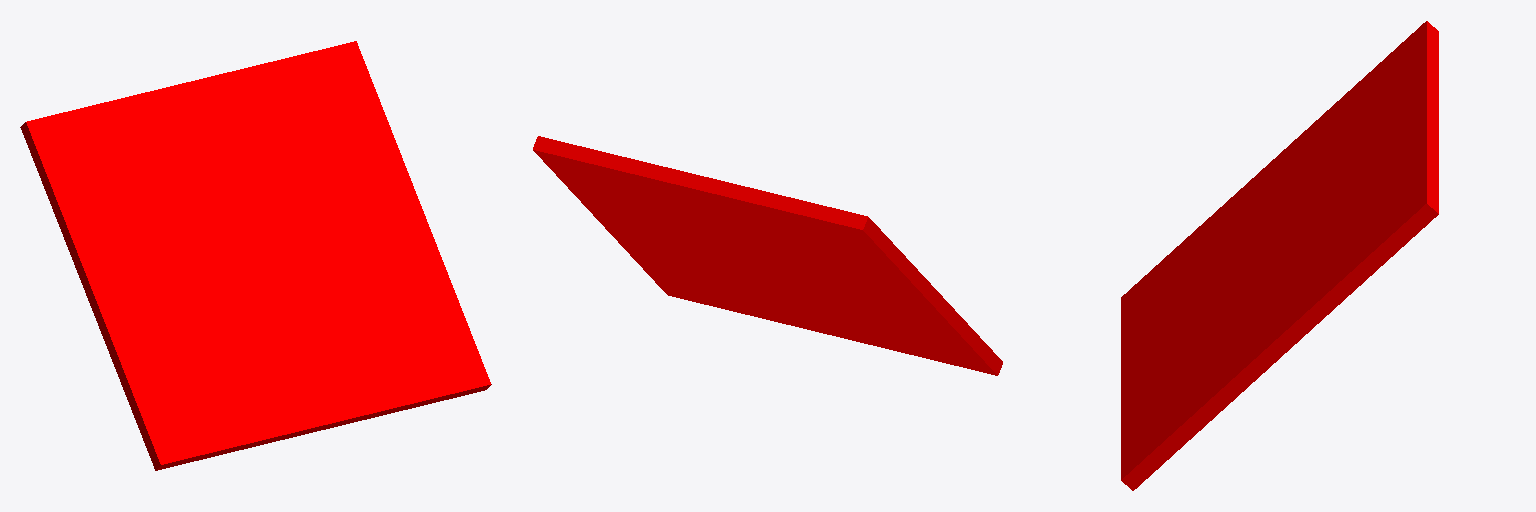
The robot description file, URDF, robot "panda_collision":
<?xml version='1.0' encoding='utf-8'?>
<robot name="panda_collision">

	<material name="red">
		<color rgba="153 0 0 1"/>
	</material>
	<material name="blue">
		<color rgba="0 102 102 1"/>
	</material>

    <link name="link0">
      <inertial>
        <origin xyz="0 0 0.05" rpy="0 0 0" />
        <mass value="4" />
        <inertia ixx="0.4" iyy="0.4" izz="0.4" ixy="0" ixz="0" iyz="0" />
      </inertial>
      <visual>
        <geometry>
          <mesh filename="../../../model/panda/meshes/visual/link0.obj"/>
        </geometry>
      </visual>
      <collision>
        <!--<geometry>
          <mesh filename="../../../model/panda/meshes/collision/link0.obj"/>
        </geometry> -->
      </collision>
    </link>
    <link name="link1">
      <inertial>
        <origin xyz="0 0 -0.07" rpy="0 -0 0" />
        <mass value="4" />
        <inertia ixx="0.3" iyy="0.3" izz="0.3" ixy="0" ixz="0" iyz="0" />
      </inertial>
      <visual>
        <geometry>
          <mesh filename="../../../model/panda/meshes/visual/link1.obj"/>
        </geometry>
      </visual>
      <collision>
        <!--<geometry>
          <mesh filename="../../../model/panda/meshes/collision/link1.obj"/>
        </geometry>-->
      </collision>
    </link>
    <link name="link2">
      <inertial>
        <origin xyz="0 -0.1 0" rpy="0 0 0" />
        <mass value="3" />
        <inertia ixx="0.3" iyy="0.3" izz="0.3" ixy="0" ixz="0" iyz="0" />
      </inertial>
      <visual>
        <geometry>
          <mesh filename="../../../model/panda/meshes/visual/link2.obj"/>
        </geometry>
      </visual>
      <collision>
        <!--<geometry>
          <mesh filename="../../../model/panda/meshes/collision/link2.obj"/>
        </geometry>-->
      </collision>
    </link>
    <link name="link3">
      <inertial>
        <origin xyz="0.04 0 -0.05" rpy="0 0 0" />
        <mass value="3" />
        <inertia ixx="0.2" iyy="0.2" izz="0.2" ixy="0" ixz="0" iyz="0" />
      </inertial>
      <visual>
        <geometry>
          <mesh filename="../../../model/panda/meshes/visual/link3.obj"/>
        </geometry>
      </visual>
      <collision>
        <!--<geometry>
          <mesh filename="../../../model/panda/meshes/collision/link3.obj"/>
        </geometry>-->
      </collision>
    </link>
    <link name="link4">
      <inertial>
        <origin xyz="-0.04 0.05 0" rpy="0 0 0" />
        <mass value="3" />
        <inertia ixx="0.2" iyy="0.2" izz="0.2" ixy="0" ixz="0" iyz="0" />
      </inertial>
      <visual>
        <geometry>
          <mesh filename="../../../model/panda/meshes/visual/link4.obj"/>
        </geometry>
      </visual>
      <collision>
        <geometry>
          <mesh filename="../../../model/panda/meshes/collision/link4.obj"/>
        </geometry>
      </collision>
    </link>
    <link name="link5">
      <inertial>
        <origin xyz="0 0 -0.15" rpy="0 0 0" />
        <mass value="3" />
        <inertia ixx="0.2" iyy="0.2" izz="0.2" ixy="0" ixz="0" iyz="0" />
      </inertial>
      <visual>
        <geometry>
          <mesh filename="../../../model/panda/meshes/visual/link5.obj"/>
        </geometry>
      </visual>
      <collision>
        <!--<geometry>
          <mesh filename="../../../model/panda/meshes/collision/link5.obj"/>
        </geometry>-->
      </collision>
    </link>
    <link name="link6">
      <inertial>
        <origin xyz="0.06 0 0" rpy="0 0 0" />
        <mass value="2" />
        <inertia ixx="0.1" iyy="0.1" izz="0.1" ixy="0" ixz="0" iyz="0" />
      </inertial>
      <visual>
        <geometry>
          <mesh filename="../../../model/panda/meshes/visual/link6.obj"/>
        </geometry>
      </visual>
      <collision>
        <geometry>
          <mesh filename="../../../model/panda/meshes/collision/link6.obj"/>
        </geometry>
      </collision>
    </link>
    <link name="link7">
      <inertial>
        <origin xyz="0 0 0.17" rpy="0 0 0" />
        <mass value="0.5" />
        <inertia ixx="0.09" iyy="0.05" izz="0.07" ixy="0" ixz="0" iyz="0" />
      </inertial>
      <visual>
        <geometry>
          <mesh filename="../../../model/panda/meshes/visual/link7.obj"/>
        </geometry>
      </visual>
      <collision>
        <geometry>
          <mesh filename="../../../model/panda/meshes/collision/link7.obj"/>
        </geometry>
      </collision>
    </link>
    <link name="plate">
      <inertial>
        <origin xyz="0 0 0.0" rpy="0 -0 0" />
        <mass value="0.0001" />
        <inertia ixx="0.01" iyy="0.01" izz="0.005" ixy="0" ixz="0" iyz="0" />
      </inertial>
      <visual>
	<origin xyz ="0 .1 -.125" rpy="0 0 0" />
        <geometry>
          <box size="0.25 0.01 0.25"/>
        </geometry>
	<material name="red"/>
      </visual>
      <collision>
	<origin xyz ="0 .1 -.125" rpy="0 0 0" />
        <geometry>
          <box size="0.25 0.01 0.25"/>
        </geometry>
	<material name="red"/>
      </collision>
    </link>
    <joint name="joint1" type="revolute">
      <safety_controller k_position="100.0" k_velocity="40.0" soft_lower_limit="-2.8973" soft_upper_limit="2.8973"/>
      <origin rpy="0 0 1.5708" xyz="0 0 0.333"/>
      <parent link="link0"/>
      <child link="link1"/>
      <axis xyz="0 0 1"/>
      <calibration falling="-80.0" />
      <limit effort="87" lower="-2.8973" upper="2.8973" velocity="2.1750"/>
    </joint>
    <joint name="joint2" type="revolute">
      <safety_controller k_position="100.0" k_velocity="40.0" soft_lower_limit="-1.7628" soft_upper_limit="1.7628"/>
      <origin rpy="-1.57079632679 0 0" xyz="0 0 0"/>
      <parent link="link1"/>
      <child link="link2"/>
      <axis xyz="0 0 1"/>
      <calibration falling="-45.0" />
      <limit effort="87" lower="-1.7628" upper="1.7628" velocity="2.1750"/>
    </joint>
    <joint name="joint3" type="revolute">
      <safety_controller k_position="100.0" k_velocity="40.0" soft_lower_limit="-2.8973" soft_upper_limit="2.8973"/>
      <origin rpy="1.57079632679 0 0" xyz="0 -0.316 0"/>
      <parent link="link2"/>
      <child link="link3"/>
      <axis xyz="0 0 1"/>
      <limit effort="87" lower="-2.8973" upper="2.8973" velocity="2.1750"/>
    </joint>
    <joint name="joint4" type="revolute">
      <safety_controller k_position="100.0" k_velocity="40.0" soft_lower_limit="-3.0718" soft_upper_limit="-0.0698"/>
      <origin rpy="1.57079632679 0 0" xyz="0.0825 0 0"/>
      <parent link="link3"/>
      <child link="link4"/>
      <axis xyz="0 0 1"/>
      <calibration falling="-125.0" />
      <limit effort="87" lower="-3.0718" upper="-0.0698" velocity="2.1750"/>
    </joint>
    <joint name="joint5" type="revolute">
      <safety_controller k_position="100.0" k_velocity="40.0" soft_lower_limit="-2.8973" soft_upper_limit="2.8973"/>
      <origin rpy="-1.57079632679 0 0" xyz="-0.0825 0.384 0"/>
      <parent link="link4"/>
      <child link="link5"/>
      <axis xyz="0 0 1"/>
      <limit effort="12" lower="-2.8973" upper="2.8973" velocity="2.6100"/>
    </joint>
    <joint name="joint6" type="revolute">
      <safety_controller k_position="100.0" k_velocity="40.0" soft_lower_limit="-0.0175" soft_upper_limit="3.7525"/>
      <origin rpy="0 0 0" xyz="0 0 0"/>
      <parent link="link5"/>
      <child link="link6"/>
      <axis xyz="0 0 1"/>
      <calibration falling="80.0" />
      <limit effort="12" lower="-0.0175" upper="3.7525" velocity="2.6100"/>
    </joint>
    <joint name="joint7" type="revolute">
      <safety_controller k_position="100.0" k_velocity="40.0" soft_lower_limit="-2.8973" soft_upper_limit="2.8973"/>
      <origin rpy="1.57079632679 0 0" xyz="0.088 0 0"/>
      <parent link="link6"/>
      <child link="link7"/>
      <axis xyz="0 0 1"/>
      <limit effort="12" lower="-2.8973" upper="2.8973" velocity="2.6100"/>
    </joint>
    <joint name="plate_joint" type="fixed">
      <parent link="link7"/>
      <child link="plate"/>
      <origin xyz="0 0 0.1654" rpy="0 0 -0.78539816339"/>
      <axis xyz="0 0 1"/>
    </joint>
</robot>

--- What the picture shows (computed from the rendered views, not written in the file) ---
The picture shows the robot from 3 angles, left to right: view 1: azimuth 30°, elevation 25°; view 2: azimuth 150°, elevation 25°; view 3: azimuth 270°, elevation 25°; orthographic projection.
Model panda_collision with 9 links and 8 joints (7 revolute, 1 fixed), rooted at link0, posed all joints at 0 but 1 set to mid-range because 0 is outside their limits (joint4 = -1.57).
Visible links, largest first — view 1: plate; view 2: plate; view 3: plate.
Link boxes in pixels (x1=…): plate: x1=20, y1=41, x2=491, y2=470; plate: x1=533, y1=136, x2=1002, y2=375; plate: x1=1121, y1=21, x2=1438, y2=490.
Size in the robot's own frame: 0.25 by 0.1838 by 0.1838 metres.
Geometry: only primitive shapes (box / cylinder / sphere) drawn; not drawn: 8 mesh visuals (reference in a form the renderer does not follow).